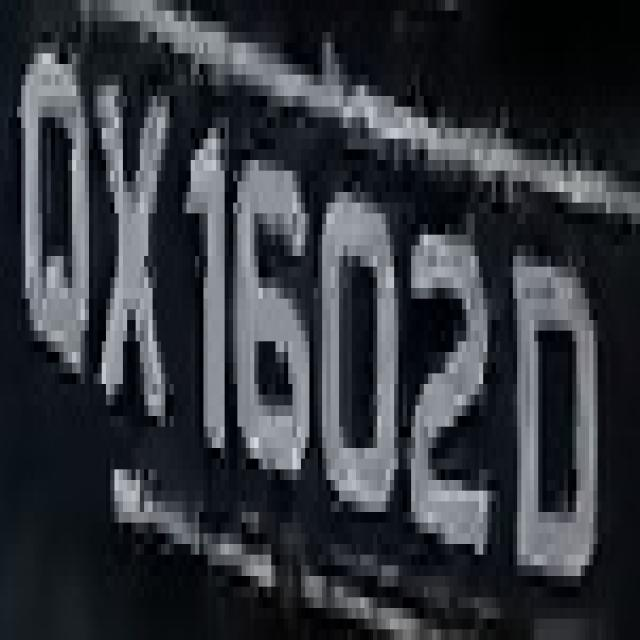0: (314, 149, 402, 544)
1: (174, 75, 233, 480)
2: (403, 181, 500, 587)
6: (229, 128, 309, 512)
D: (509, 203, 606, 608)
Q: (8, 32, 102, 405)
X: (93, 32, 182, 480)
